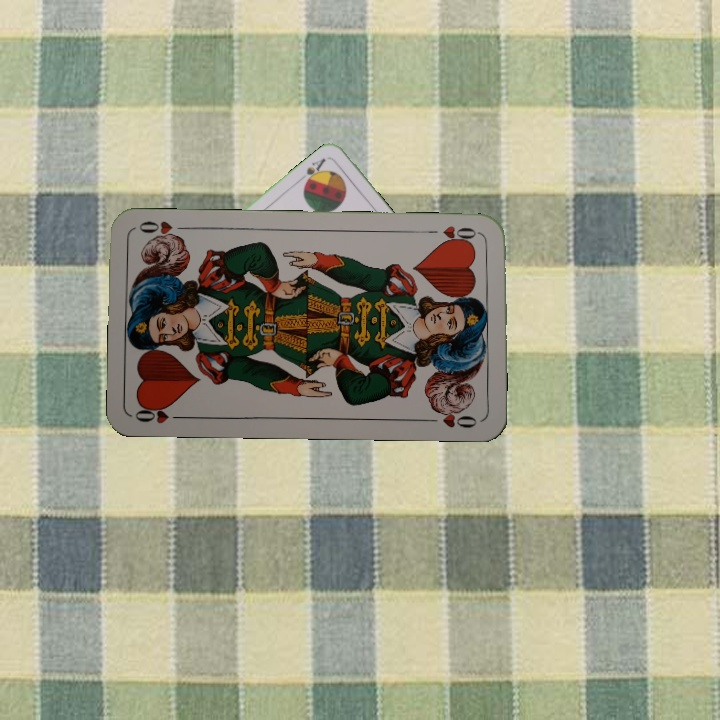HO: (424, 222, 483, 247), (131, 401, 190, 426)
SA: (300, 153, 329, 187)
